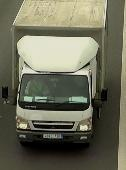truck: (11, 1, 106, 148)
